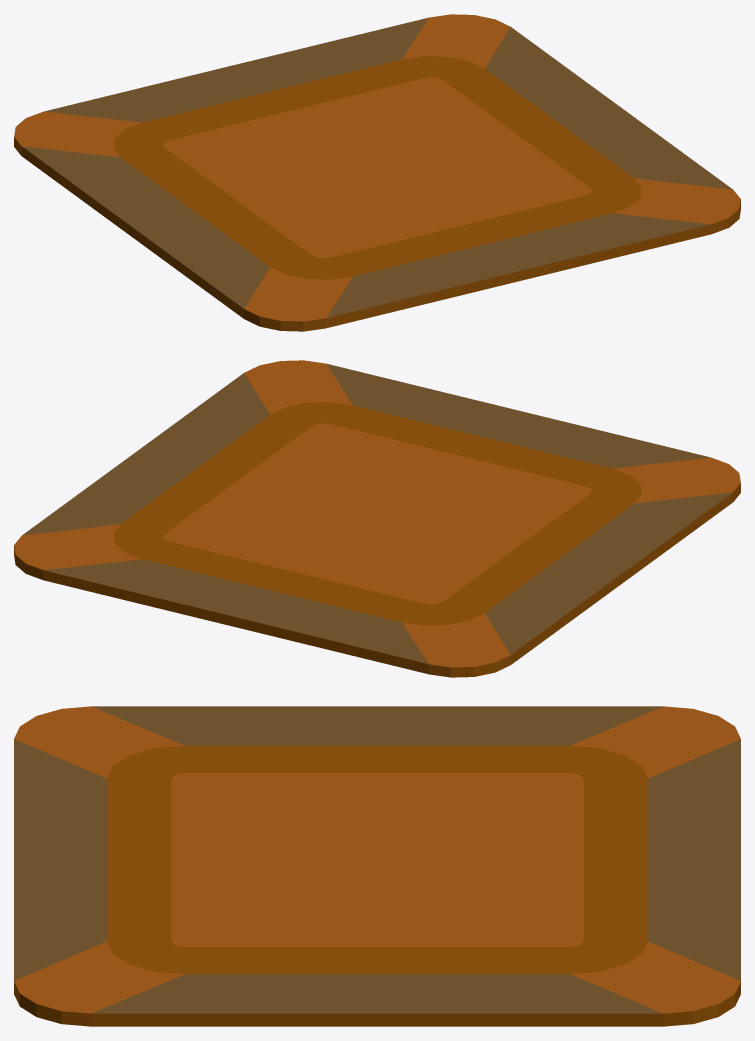
Rendered from rug.fbx.
The picture shows the model from 3 angles, top to bottom: view 1: azimuth 30°, elevation 25°; view 2: azimuth 150°, elevation 25°; view 3: azimuth 270°, elevation 25°; orthographic projection. The views are drawn at different scales.
Visible parts, largest first — view 1: rug; view 2: rug; view 3: rug.
Boxes of the visible parts, x1,y1,x2,y2 form: rug: [14, 14, 740, 331]; rug: [14, 360, 740, 677]; rug: [14, 706, 740, 1026].
Bounding box in the file's own units: 98.19 × 1.93 × 98.19.
